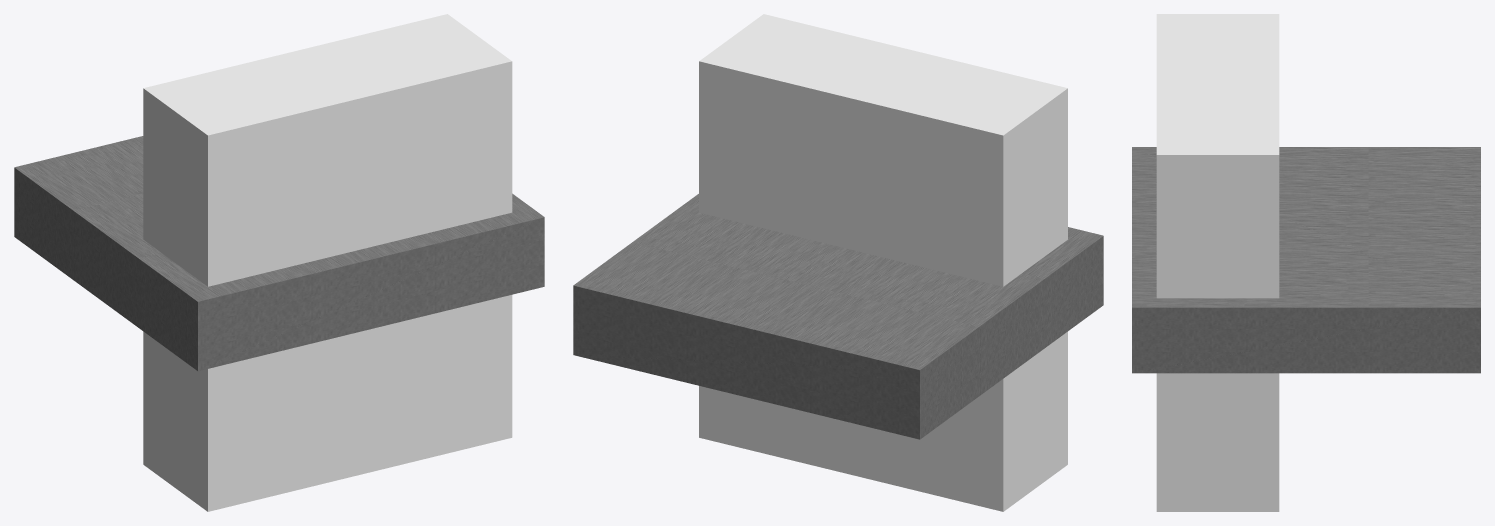
The model's file is Wall light.FBX.
The picture shows the model from 3 angles, left to right: view 1: azimuth 30°, elevation 25°; view 2: azimuth 150°, elevation 25°; view 3: azimuth 270°, elevation 25°; orthographic projection. The views are drawn at different scales.
Visible parts, largest first — view 1: Wall light; view 2: Wall light; view 3: Wall light.
Boxes of the visible parts, box(x1,y1,x2,y2) form: Wall light: box(14, 14, 544, 511); Wall light: box(573, 14, 1103, 511); Wall light: box(1132, 14, 1480, 511).
Size of the model in its own units: 34.65 by 35.93 by 31.8.
2 materials, 1 textured.
